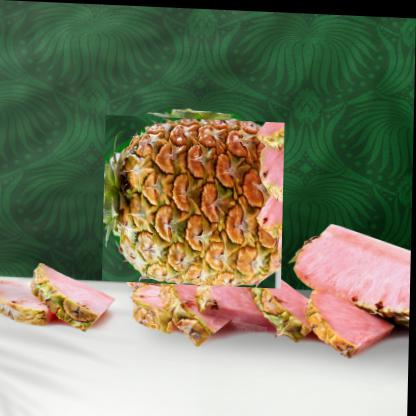pineapple: (107, 110, 284, 290)
